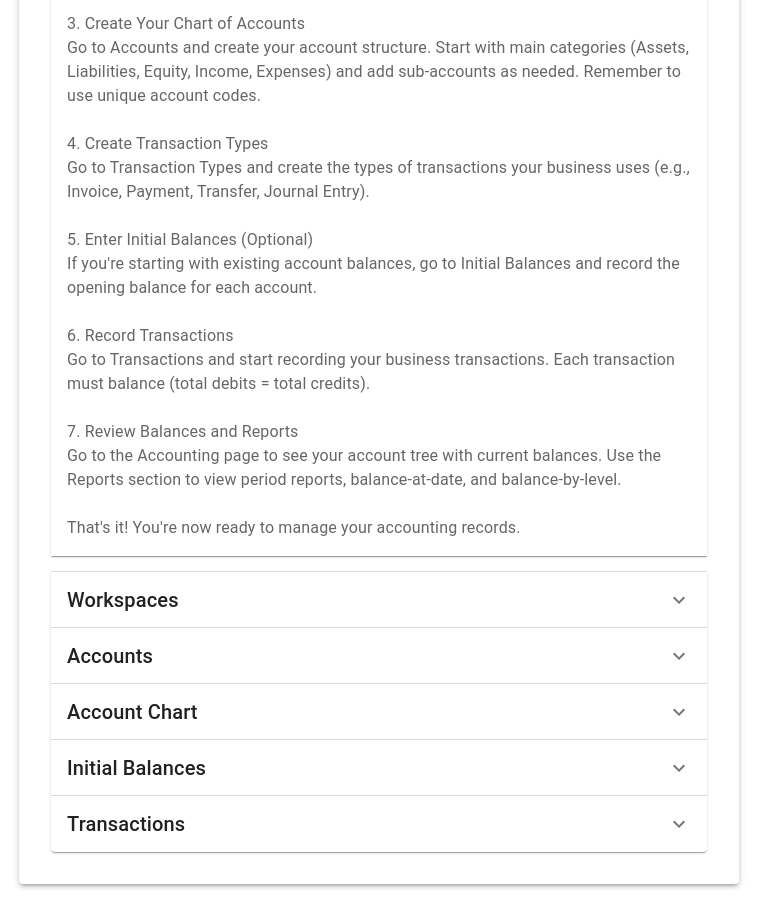
it: HelpPage › should allow expanding and collapsing sections
(page scrolled)
// Click to expand
Click the button "Accounts".
click(110, 656)  # box top-left (67, 644), bottom-right (691, 668)
(page scrolled)
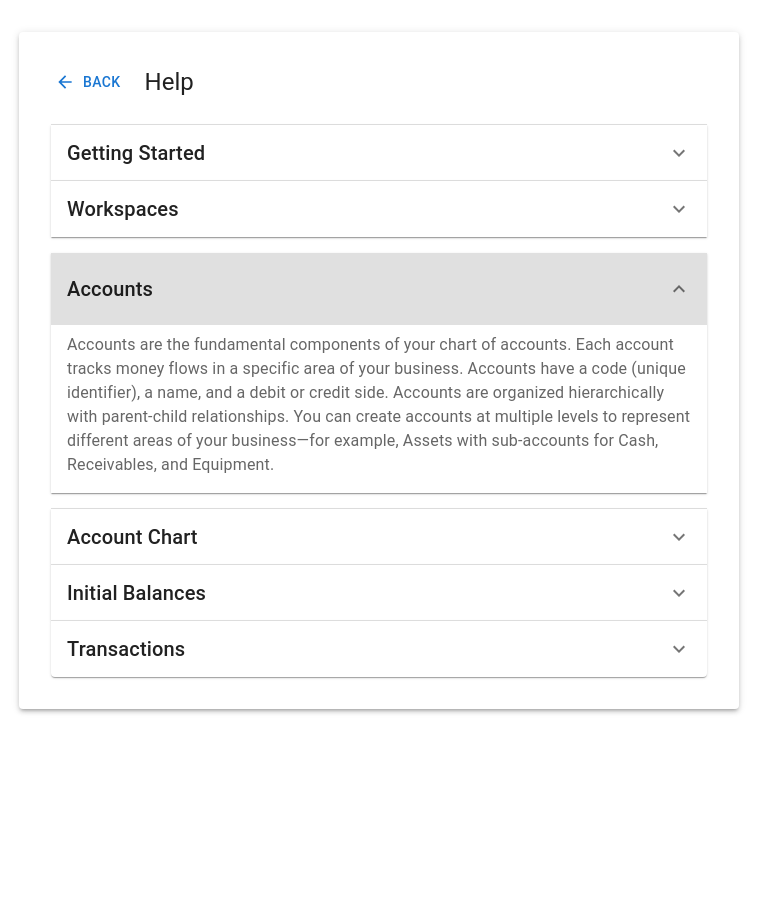
expect the button "Accounts" is expanded: met
// Click to collapse
Click the button "Accounts".
click(110, 288)  # box top-left (51, 252), bottom-right (707, 324)
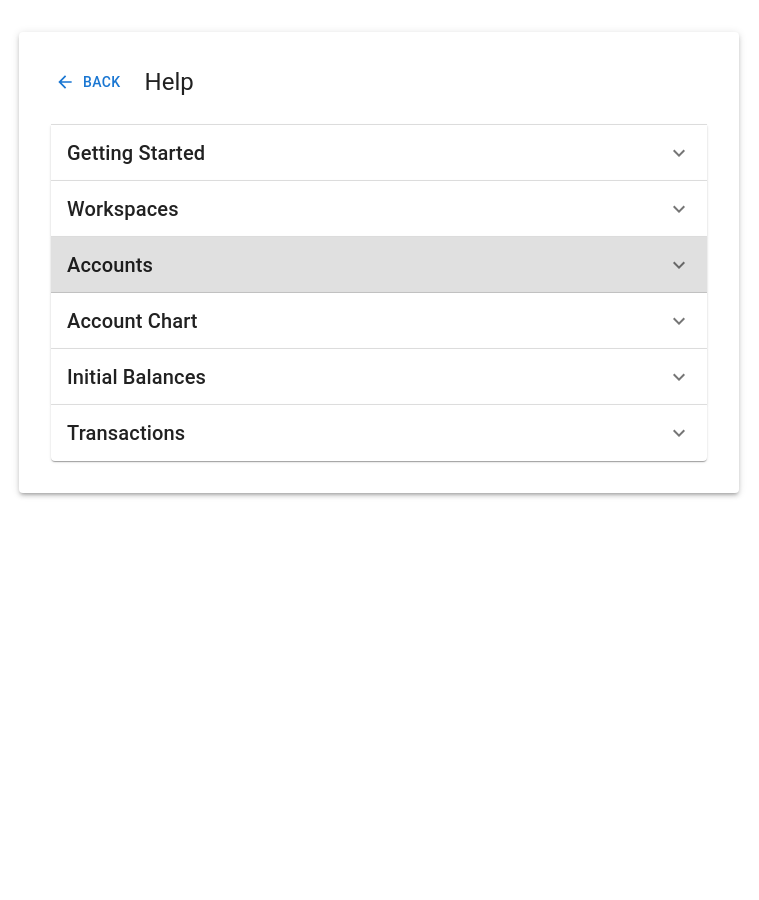
expect the button "Accounts" is collapsed: met, box top-left (51, 236), bottom-right (707, 292)
